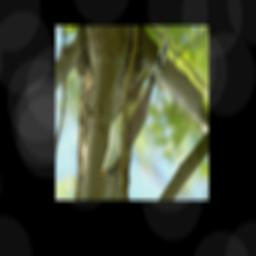Cuckoo: (97, 38, 169, 179)
